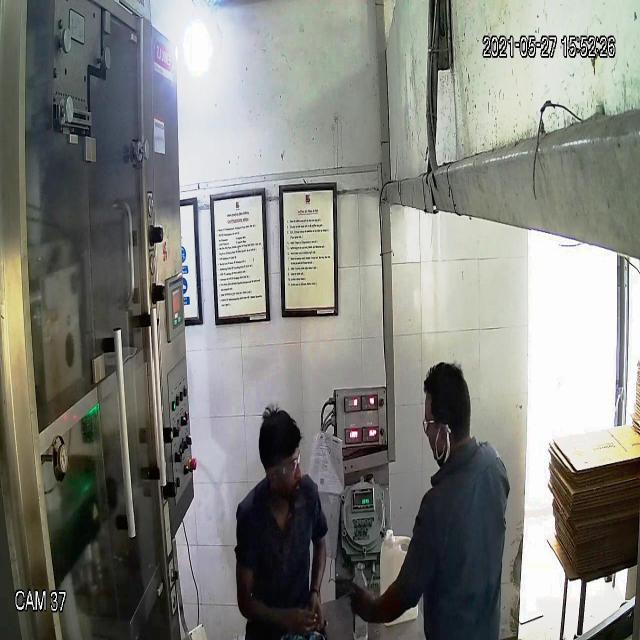glasses: (262, 452, 304, 478)
